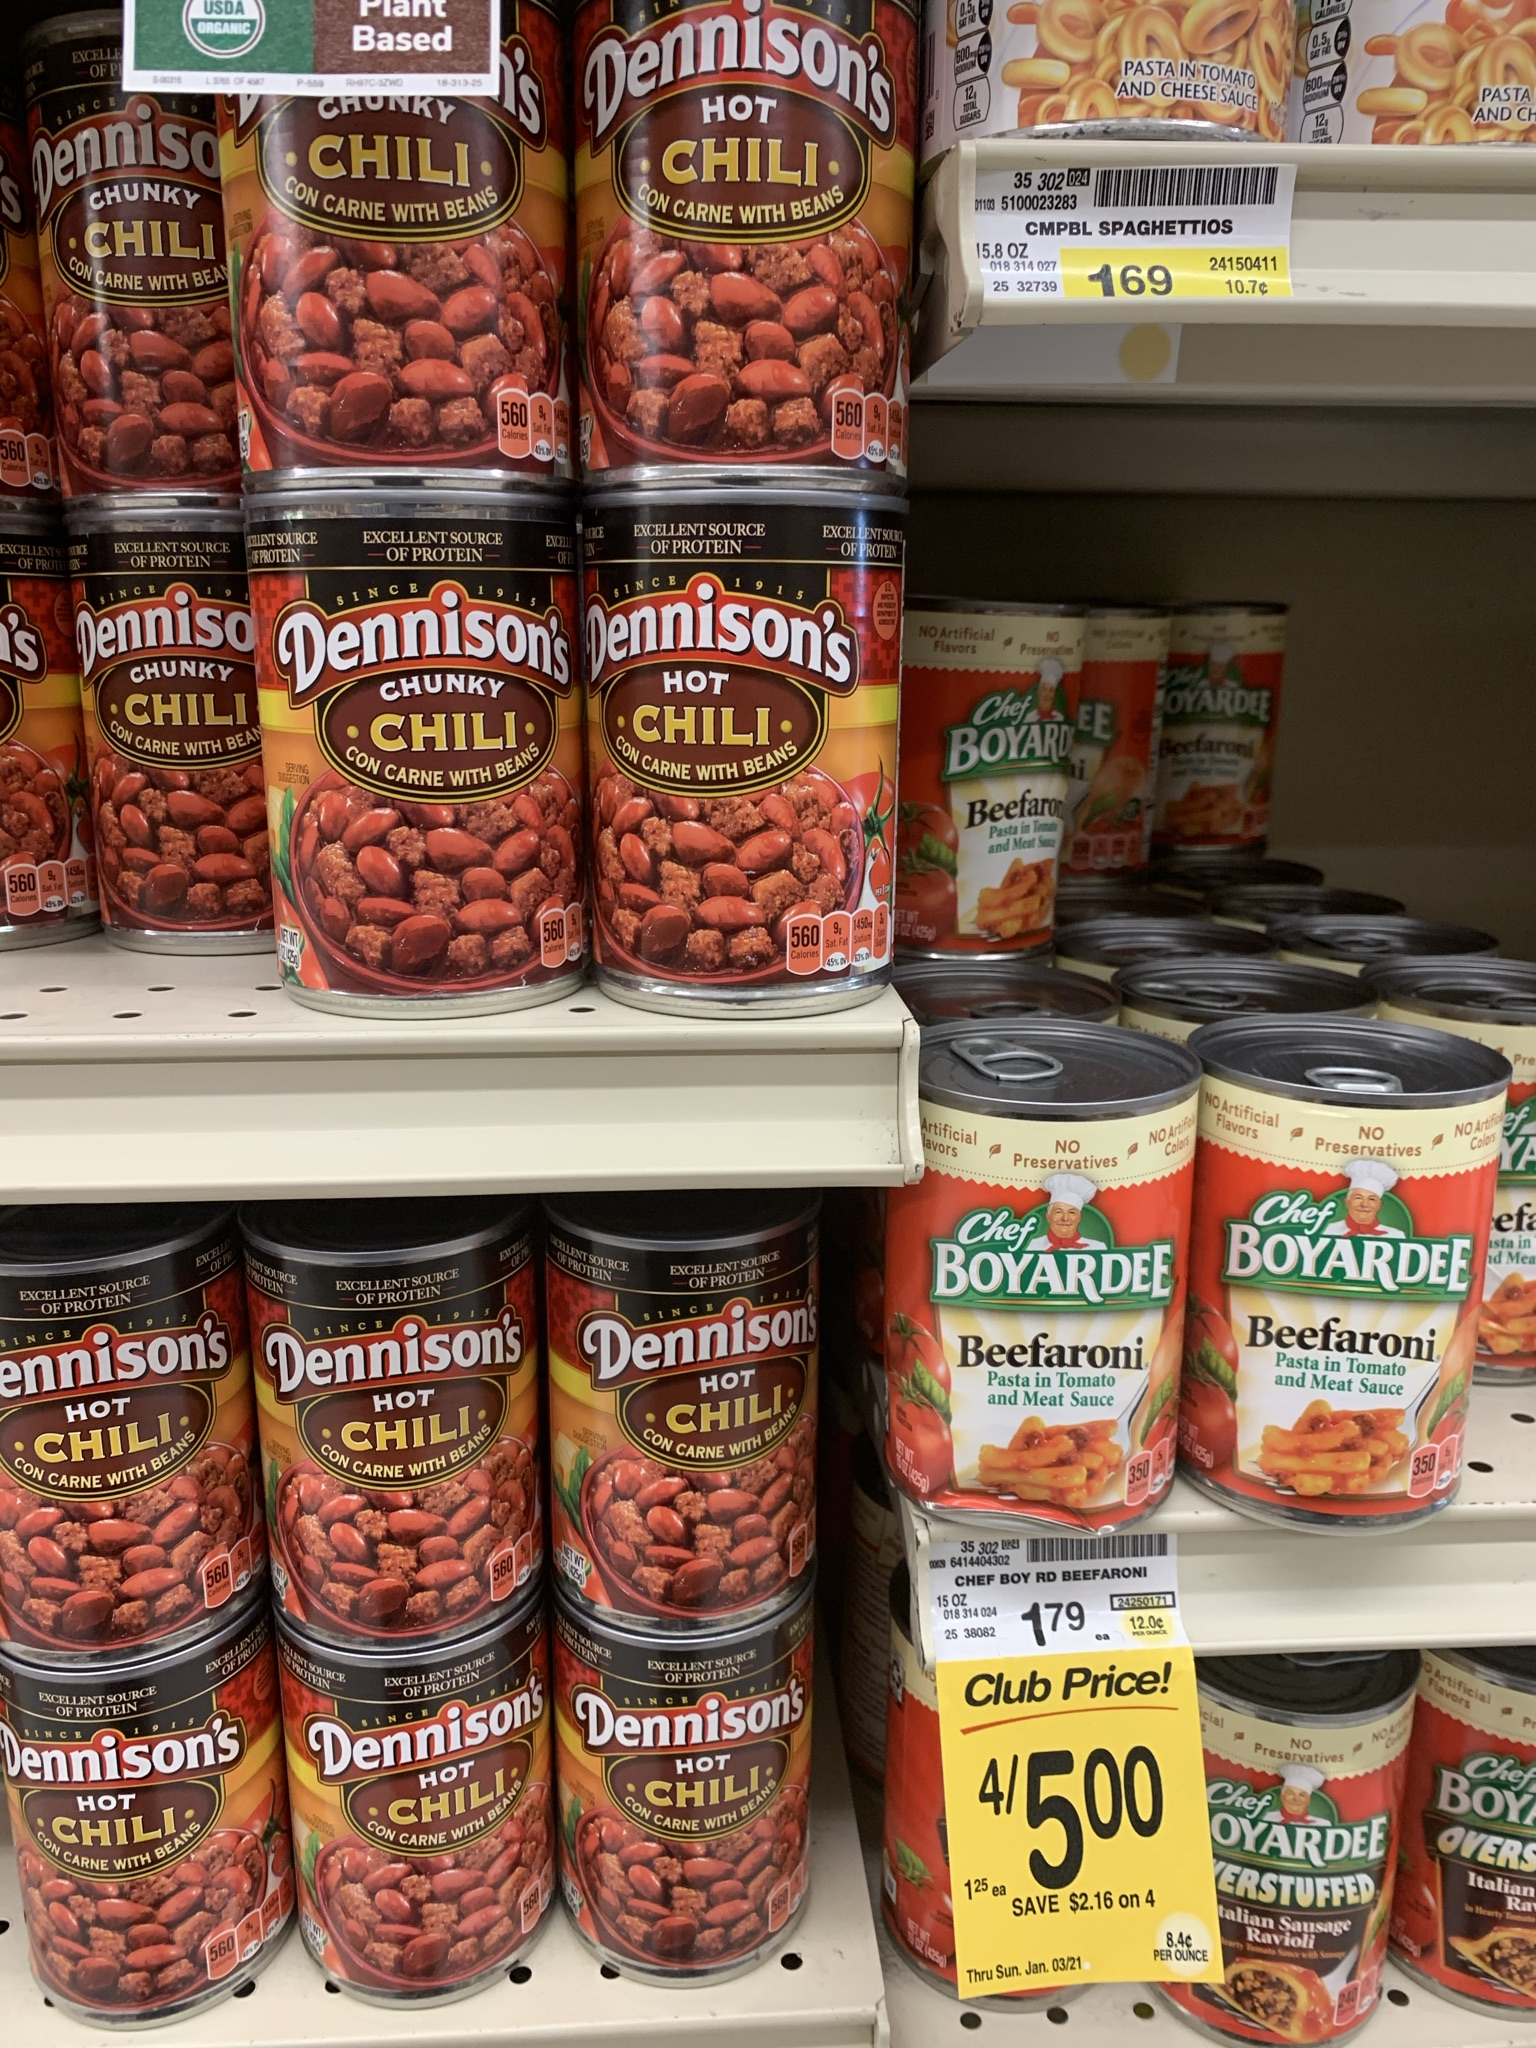can: (278, 506, 573, 1000), (597, 510, 891, 997), (1217, 1097, 1471, 1505), (557, 1230, 815, 1606), (941, 1105, 1179, 1509), (263, 1251, 536, 1601), (69, 518, 266, 951), (10, 1251, 232, 1630), (16, 1653, 252, 1998), (563, 1642, 808, 1954), (298, 1655, 549, 1950), (912, 608, 1063, 948), (1186, 619, 1276, 843)
